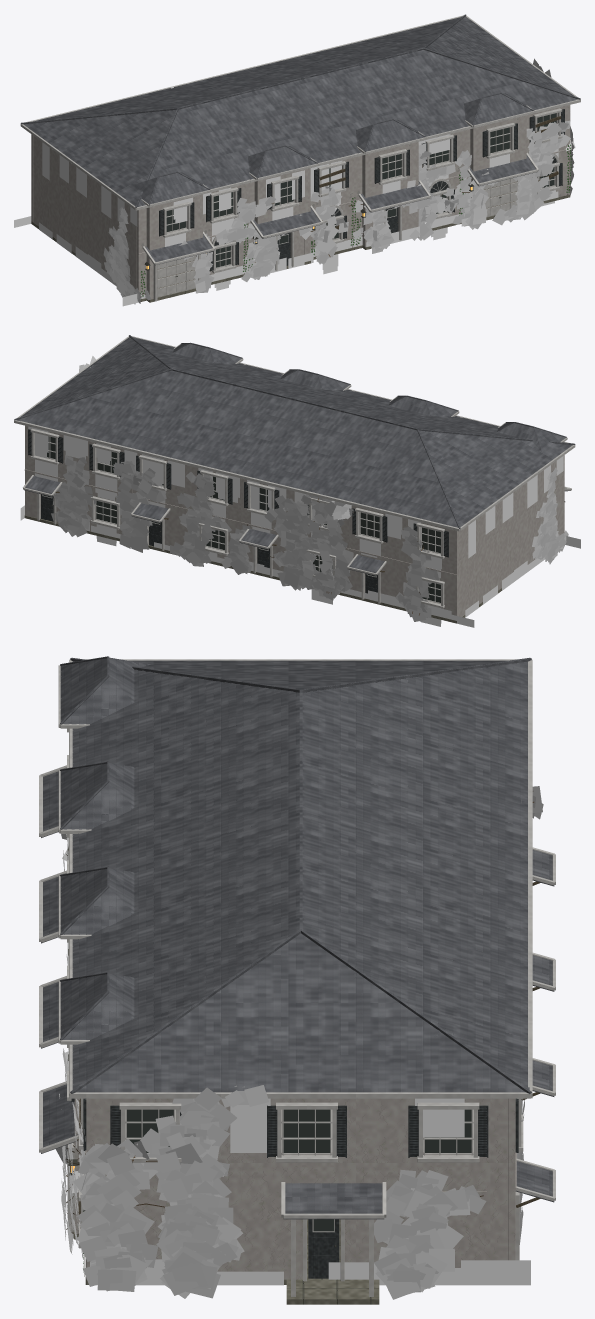
File: kit_row4_intact_v2.glb
3 views of the same model, one above another, from view 1: azimuth 30°, elevation 25°; view 2: azimuth 150°, elevation 25°; view 3: azimuth 270°, elevation 25° (orthographic). The views are drawn at different scales.
Visible parts, largest first — view 1: kit_row4_intact_Ivy, Unit_01_Batched, Roof_Left_Shingled.001, Roof_Middle_Shingled.002, Roof_Middle_Shingled.001, Roof_Right_Shingled.003, kit_row4_intact_Grime, Unit_03_Batched, Unit_02_Batched, Unit_RightEnd_Base_DamageReady_Batched.001, Roof_Left_Eave_Trim.001, Projecting_Bay_Shingle_Cap.002 (+9 smaller); view 2: kit_row4_intact_Ivy, Roof_Left_Shingled.001, Unit_01_Batched, Roof_Middle_Shingled.002, Roof_Middle_Shingled.001, Roof_Right_Shingled.003, kit_row4_intact_Grime, Unit_RightEnd_Base_DamageReady_Batched.001, Unit_03_Batched, Unit_02_Batched, Roof_Left_Eave_Trim.001, Roof_Right_Eave_Trim.003 (+6 smaller); view 3: Roof_Right_Shingled.003, Unit_RightEnd_Base_DamageReady_Batched.001, Roof_Middle_Shingled.001, Roof_Middle_Shingled.002, kit_row4_intact_Ivy, Roof_Left_Shingled.001, kit_row4_intact_Grime, Roof_Right_Eave_Trim.003, Projecting_Bay_Shingle_Cap.002, Projecting_Bay_Shingle_Cap.003, Projecting_Bay_Shingle_Cap.006, Projecting_Bay_Shingle_Cap.005 (+10 smaller).
Part boxes in pixels (<box>): kit_row4_intact_Ivy: <box>103,58,575,304</box>; Unit_01_Batched: <box>31,134,247,302</box>; Roof_Left_Shingled.001: <box>24,96,249,207</box>; Roof_Middle_Shingled.002: <box>245,43,465,153</box>; Roof_Middle_Shingled.001: <box>137,70,357,179</box>; Roof_Right_Shingled.003: <box>353,16,576,126</box>; kit_row4_intact_Grime: <box>14,134,558,306</box>; Unit_03_Batched: <box>354,131,463,249</box>; Unit_02_Batched: <box>246,157,355,270</box>; Unit_RightEnd_Base_DamageReady_Batched.001: <box>462,115,538,220</box>; Roof_Left_Eave_Trim.001: <box>20,95,250,210</box>; Projecting_Bay_Shingle_Cap.002: <box>129,172,208,204</box>; kit_row4_intact_Ivy: <box>51,356,568,621</box>; Roof_Left_Shingled.001: <box>346,417,572,527</box>; Unit_01_Batched: <box>347,455,571,623</box>; Roof_Middle_Shingled.002: <box>130,364,351,473</box>; Roof_Middle_Shingled.001: <box>238,390,459,500</box>; Roof_Right_Shingled.003: <box>16,337,243,447</box>; kit_row4_intact_Grime: <box>20,426,580,627</box>; Unit_RightEnd_Base_DamageReady_Batched.001: <box>23,425,132,541</box>; Unit_03_Batched: <box>131,453,240,568</box>; Unit_02_Batched: <box>239,478,348,597</box>; Roof_Left_Eave_Trim.001: <box>344,416,575,531</box>; Roof_Right_Eave_Trim.003: <box>14,335,244,450</box>; Roof_Right_Shingled.003: <box>72,918,529,1092</box>; Unit_RightEnd_Base_DamageReady_Batched.001: <box>39,1044,555,1304</box>; Roof_Middle_Shingled.001: <box>72,707,527,876</box>; Roof_Middle_Shingled.002: <box>72,812,527,981</box>; kit_row4_intact_Ivy: <box>55,786,543,1299</box>; Roof_Left_Shingled.001: <box>72,660,527,770</box>; kit_row4_intact_Grime: <box>90,1098,530,1285</box>; Roof_Right_Eave_Trim.003: <box>69,915,532,1098</box>; Projecting_Bay_Shingle_Cap.002: <box>60,657,150,724</box>; Projecting_Bay_Shingle_Cap.003: <box>60,763,134,829</box>; Projecting_Bay_Shingle_Cap.006: <box>60,973,134,1039</box>; Projecting_Bay_Shingle_Cap.005: <box>60,868,134,934</box>.
Size of the model in its own units: 32.26 by 9.78 by 15.36.
Materials: 15 (6 with a texture image).
